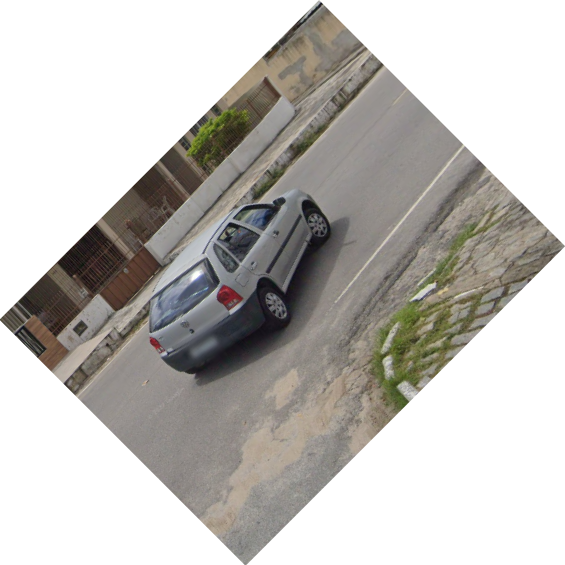car: (140, 186, 336, 380)
